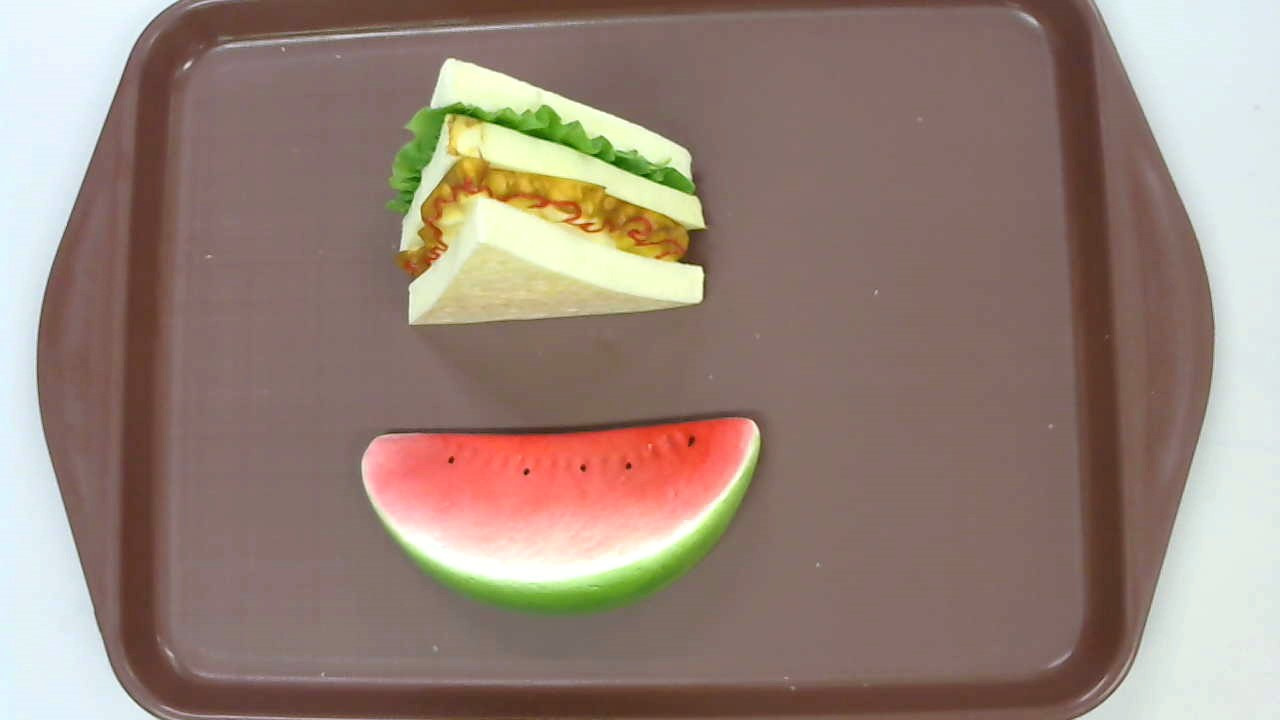sandwich: (382, 58, 709, 329)
water melon: (361, 416, 762, 612)
